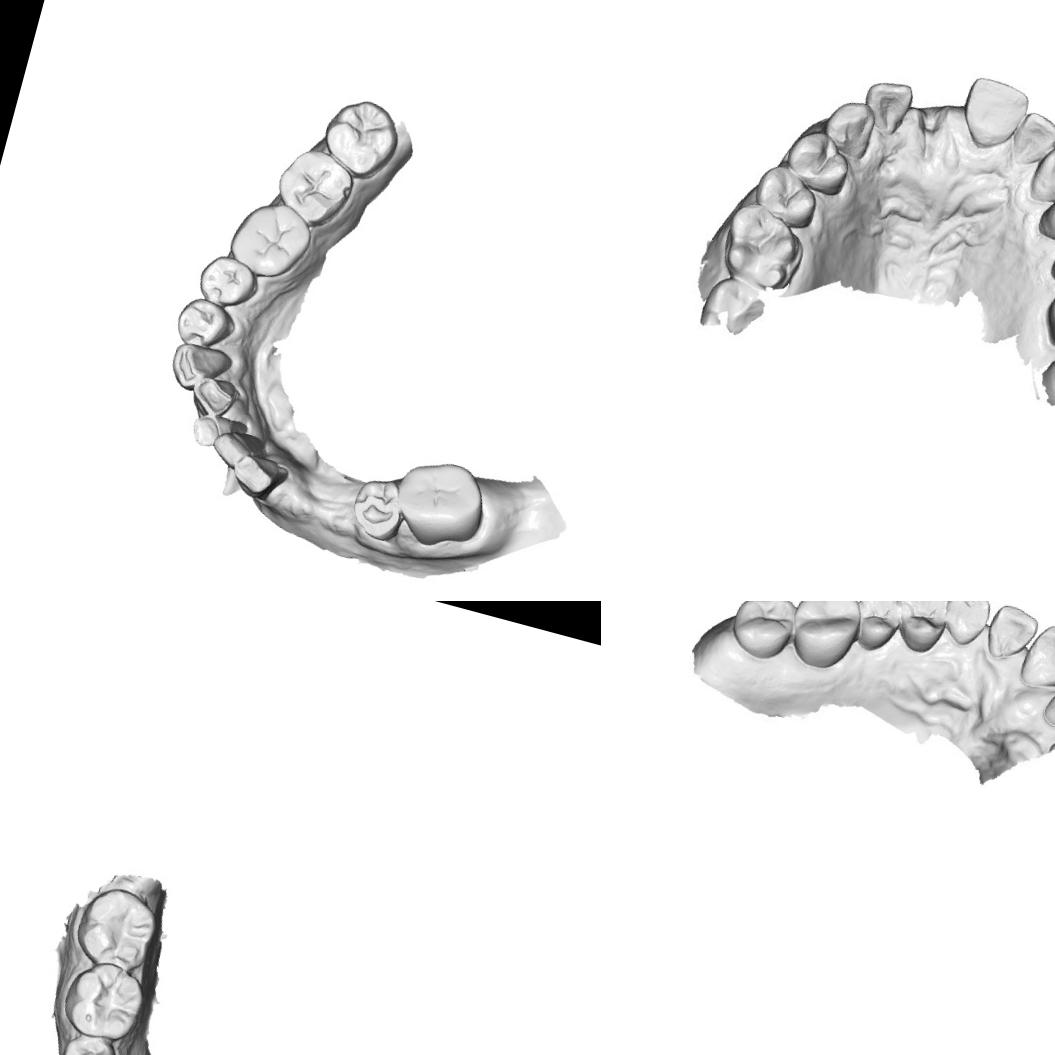canine: (164, 332, 238, 399), (816, 92, 883, 162), (936, 601, 996, 651), (1021, 138, 1055, 211)
incisor: (951, 68, 1034, 156), (979, 601, 1043, 671), (856, 72, 918, 140), (226, 447, 292, 505), (1005, 105, 1055, 169), (208, 422, 268, 474), (186, 408, 247, 456), (186, 369, 242, 421), (1021, 620, 1055, 695), (1040, 662, 1055, 737)
molar: (386, 449, 496, 560), (67, 878, 168, 980), (712, 198, 813, 298), (52, 950, 154, 1048), (220, 190, 318, 287), (314, 89, 407, 187), (268, 140, 361, 235), (779, 601, 867, 676), (726, 601, 802, 665), (1033, 335, 1055, 424)
premolar: (778, 124, 858, 200), (748, 158, 826, 232), (344, 471, 409, 544), (192, 251, 263, 314), (169, 292, 235, 352), (849, 601, 907, 654), (892, 601, 951, 650), (51, 1026, 125, 1055), (1031, 181, 1055, 257)
